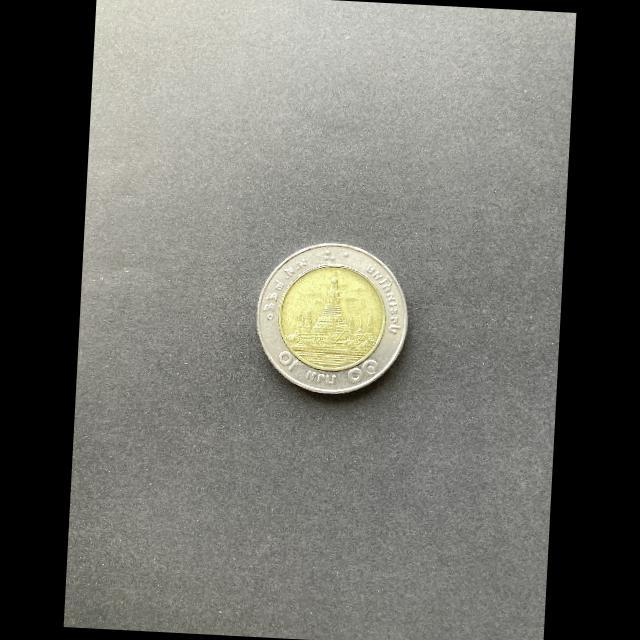10 Bath: (250, 233, 419, 408)
